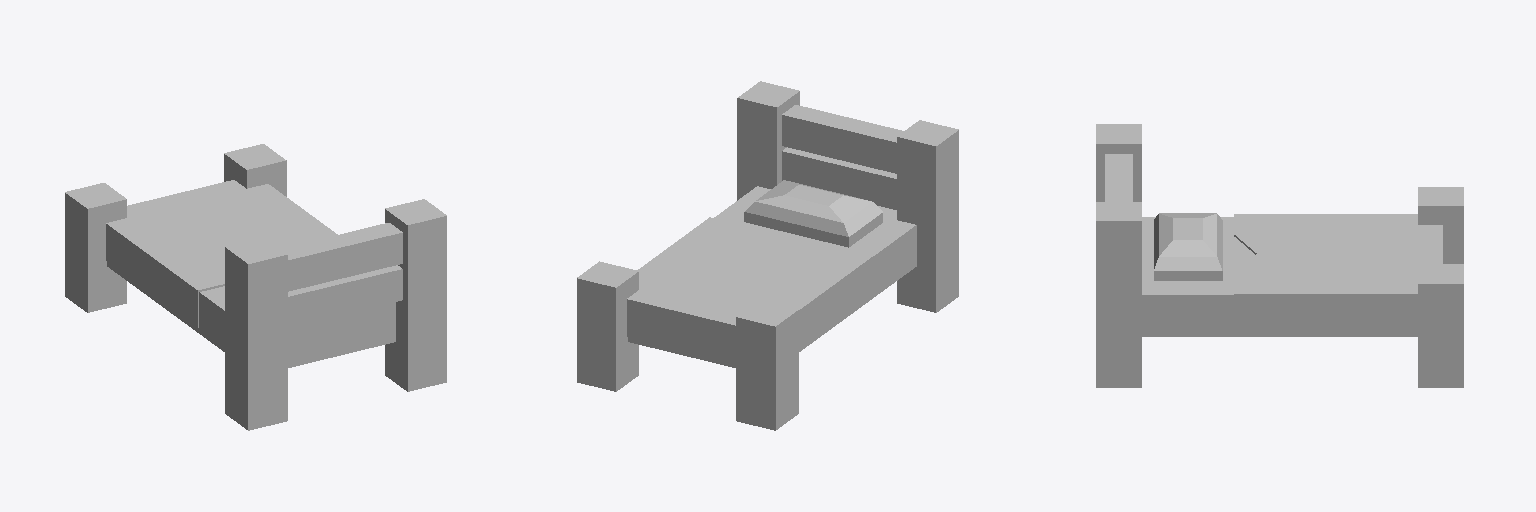
File: bed_single_verdantforest.obj
3 views of the same model, side by side, from view 1: azimuth 30°, elevation 25°; view 2: azimuth 150°, elevation 25°; view 3: azimuth 270°, elevation 25° (orthographic).
Visible parts, largest first — view 1: bed_verdant_forest; view 2: bed_verdant_forest; view 3: bed_verdant_forest.
Boxes of the visible parts, x1=… form: bed_verdant_forest: x1=65, y1=144, x2=446, y2=430; bed_verdant_forest: x1=577, y1=81, x2=958, y2=430; bed_verdant_forest: x1=1096, y1=124, x2=1463, y2=387.
Bounding box in the file's own units: 1 × 0.8 × 1.6.